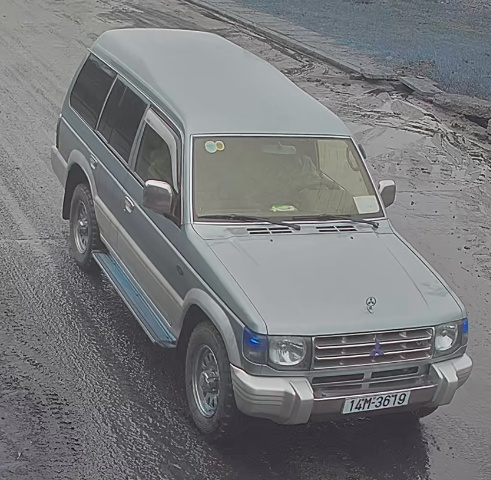vehicle plate: (337, 388, 419, 415)
